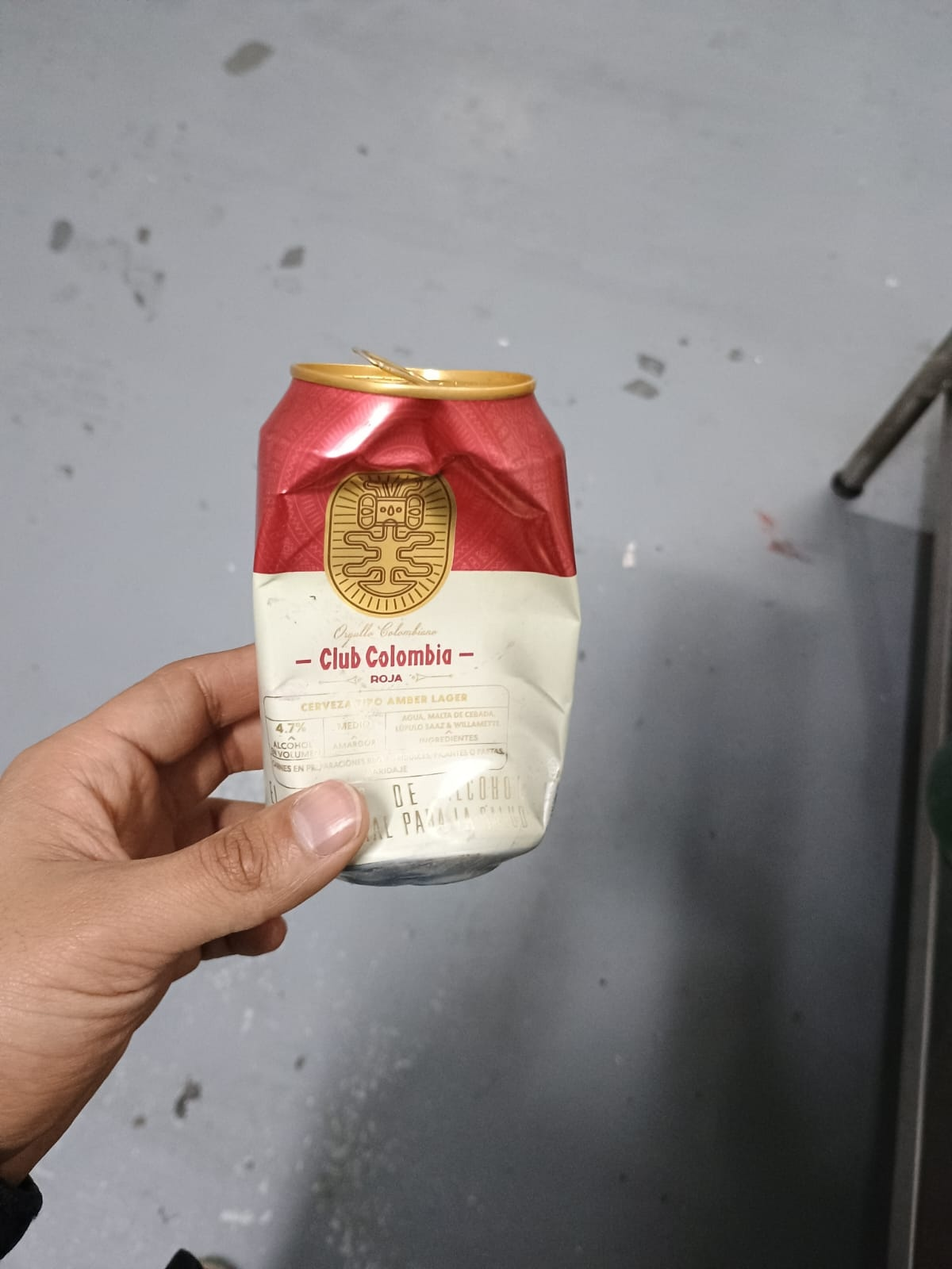Metal: (253, 366, 586, 885)
